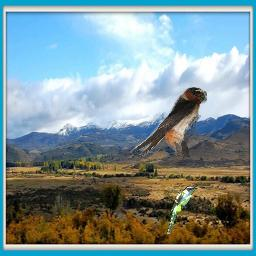Cuckoo: (167, 186, 198, 234)
Swallow: (131, 87, 207, 157)
